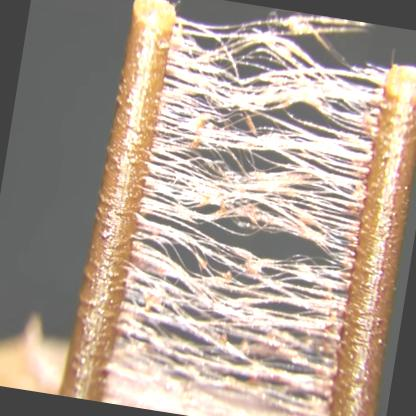fail: (118, 1, 395, 392)
